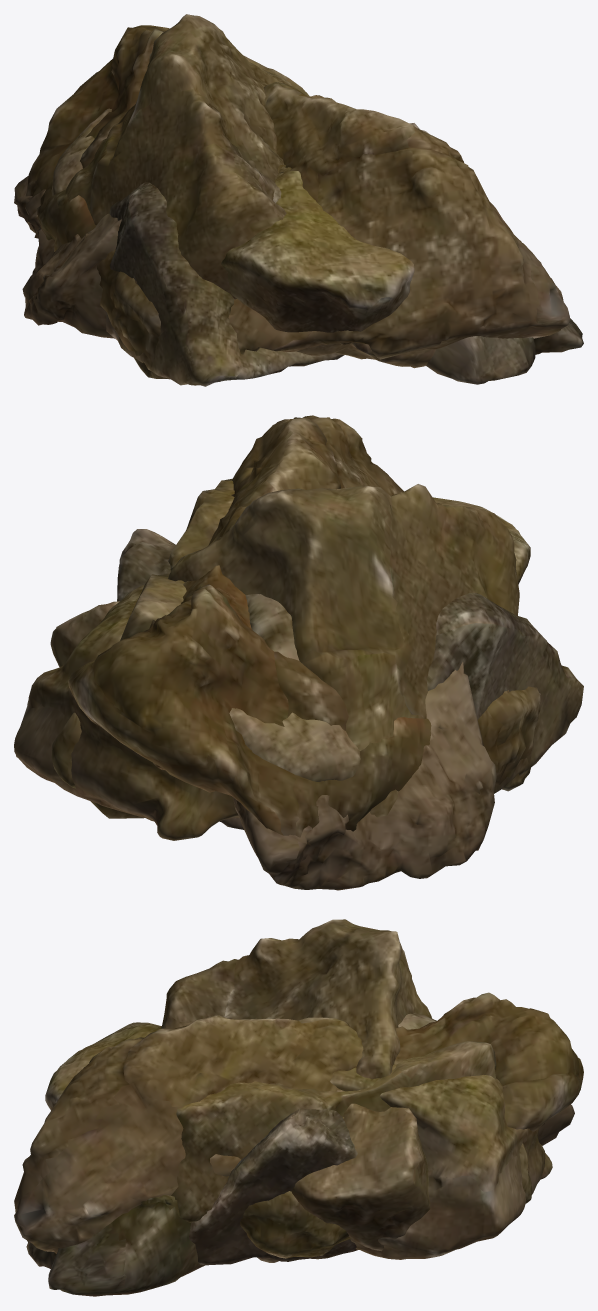
File: rock_moss_set_01.glb
The picture shows the model from 3 angles, top to bottom: view 1: azimuth 30°, elevation 25°; view 2: azimuth 150°, elevation 25°; view 3: azimuth 270°, elevation 25°; orthographic projection. The views are drawn at different scales.
Parts seen in each view (by area): view 1: rock_moss_set_01_rock01, rock_moss_set_01_rock04, rock_moss_set_01_rock05, rock_moss_set_01_rock03, rock_moss_set_01_rock02, rock_moss_set_01_rock06; view 2: rock_moss_set_01_rock01, rock_moss_set_01_rock04, rock_moss_set_01_rock02, rock_moss_set_01_rock05, rock_moss_set_01_rock03, rock_moss_set_01_rock06; view 3: rock_moss_set_01_rock01, rock_moss_set_01_rock04, rock_moss_set_01_rock05, rock_moss_set_01_rock06, rock_moss_set_01_rock02, rock_moss_set_01_rock03.
Part boxes in pixels (x1,y1,x2,y2): rock_moss_set_01_rock01: (25, 25, 570, 379); rock_moss_set_01_rock04: (54, 14, 324, 299); rock_moss_set_01_rock05: (51, 92, 414, 355); rock_moss_set_01_rock03: (106, 123, 428, 386); rock_moss_set_01_rock02: (14, 176, 583, 384); rock_moss_set_01_rock06: (243, 55, 435, 368); rock_moss_set_01_rock01: (68, 415, 540, 845); rock_moss_set_01_rock04: (50, 484, 519, 817); rock_moss_set_01_rock02: (233, 594, 496, 890); rock_moss_set_01_rock05: (14, 497, 530, 840); rock_moss_set_01_rock03: (117, 529, 583, 829); rock_moss_set_01_rock06: (51, 478, 234, 818); rock_moss_set_01_rock01: (14, 992, 583, 1262); rock_moss_set_01_rock04: (161, 919, 431, 1251); rock_moss_set_01_rock05: (45, 1022, 552, 1259); rock_moss_set_01_rock06: (171, 1041, 532, 1258); rock_moss_set_01_rock02: (26, 1013, 574, 1296); rock_moss_set_01_rock03: (188, 1108, 358, 1265).
Size of the model in its own units: 2.66 by 1.77 by 3.37.
1 material, 1 textured.
